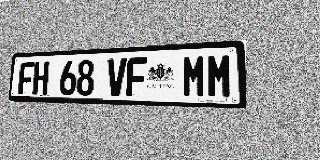6: (59, 60, 78, 96)
8: (76, 59, 95, 96)
F: (126, 57, 147, 97), (18, 62, 34, 95)
H: (32, 61, 49, 95)
M: (207, 54, 232, 99), (182, 55, 206, 98)
V: (106, 58, 127, 97)
